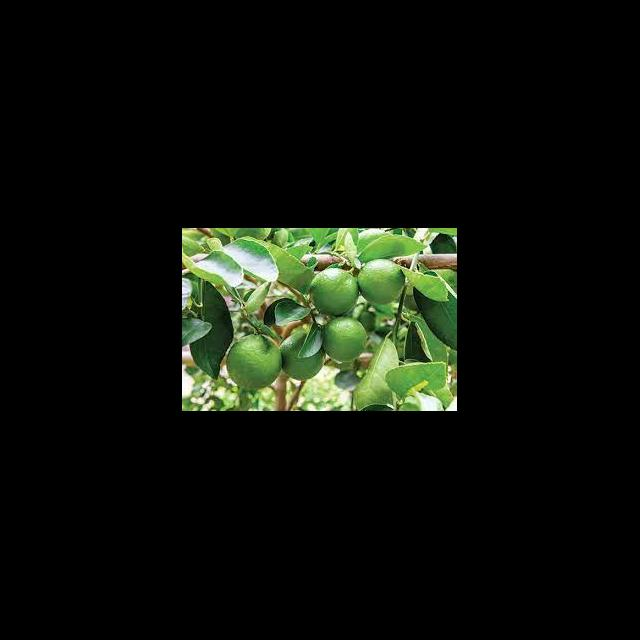lime: (226, 334, 282, 392), (280, 320, 326, 382), (308, 268, 360, 318), (358, 260, 406, 306), (322, 318, 368, 366), (182, 228, 206, 256), (182, 250, 190, 262)
